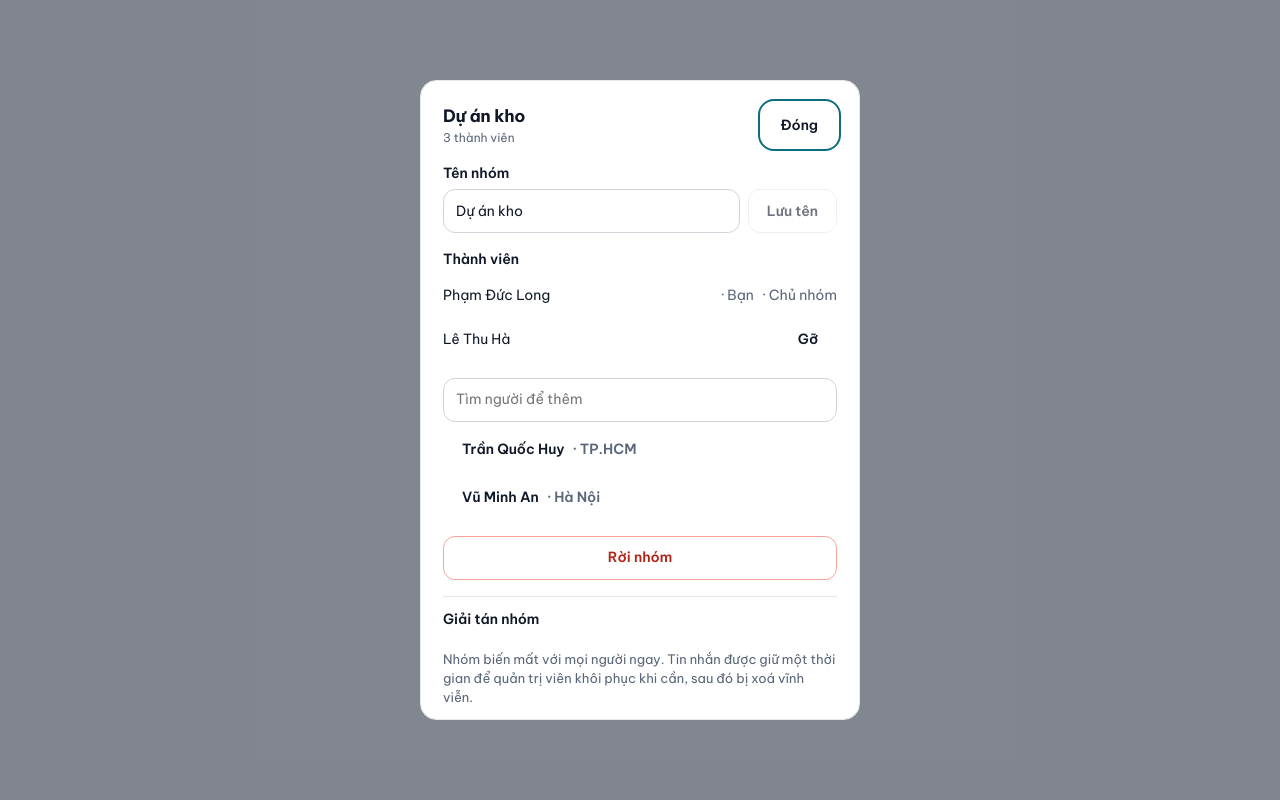
Test: GroupPanel › ignores an earlier directory response that resolves after a later one
Expected: the button "Trần Quốc Huy · TP.HCM" is shown, [443, 428, 837, 472]
Step 1. Type "a" into the field named "Thêm thành viên" → point(640, 400), box [443, 378, 837, 422]
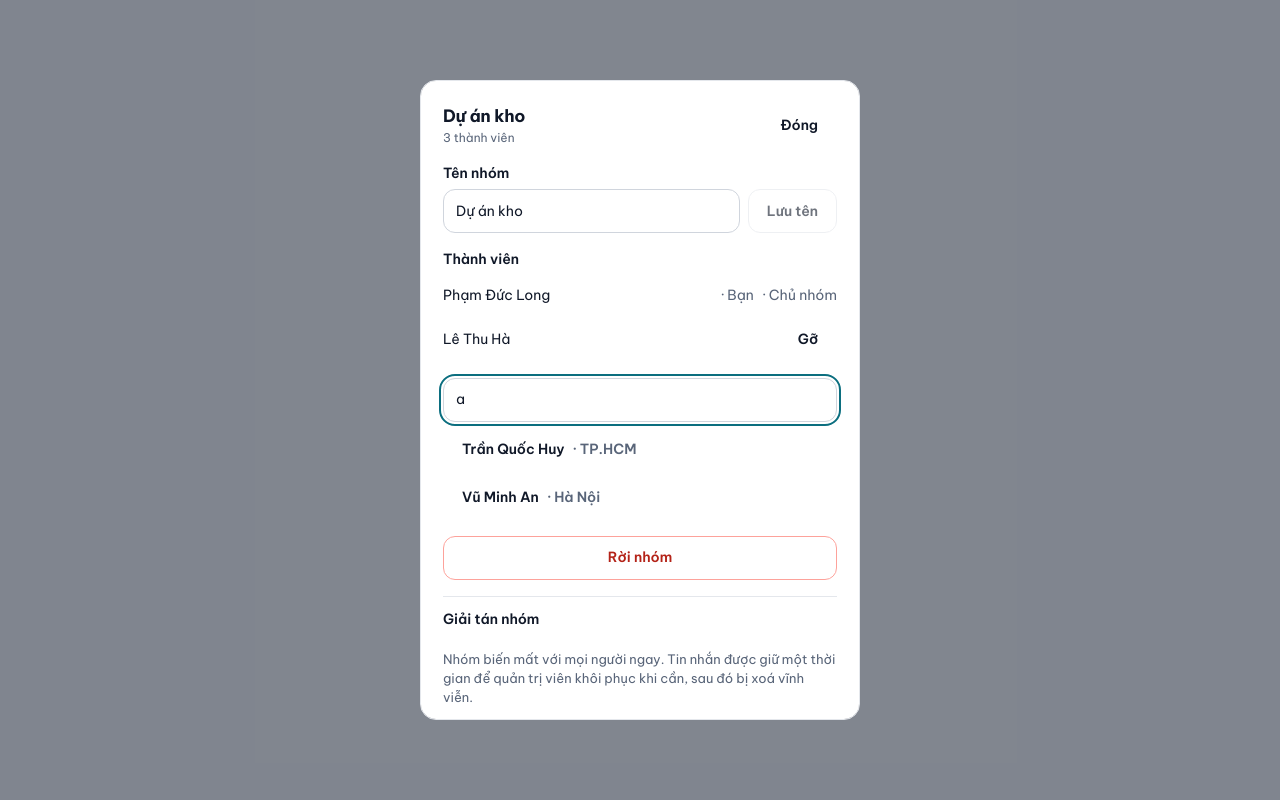
Step 2. Type "n" into the field named "Thêm thành viên" → point(640, 400), box [443, 378, 837, 422]
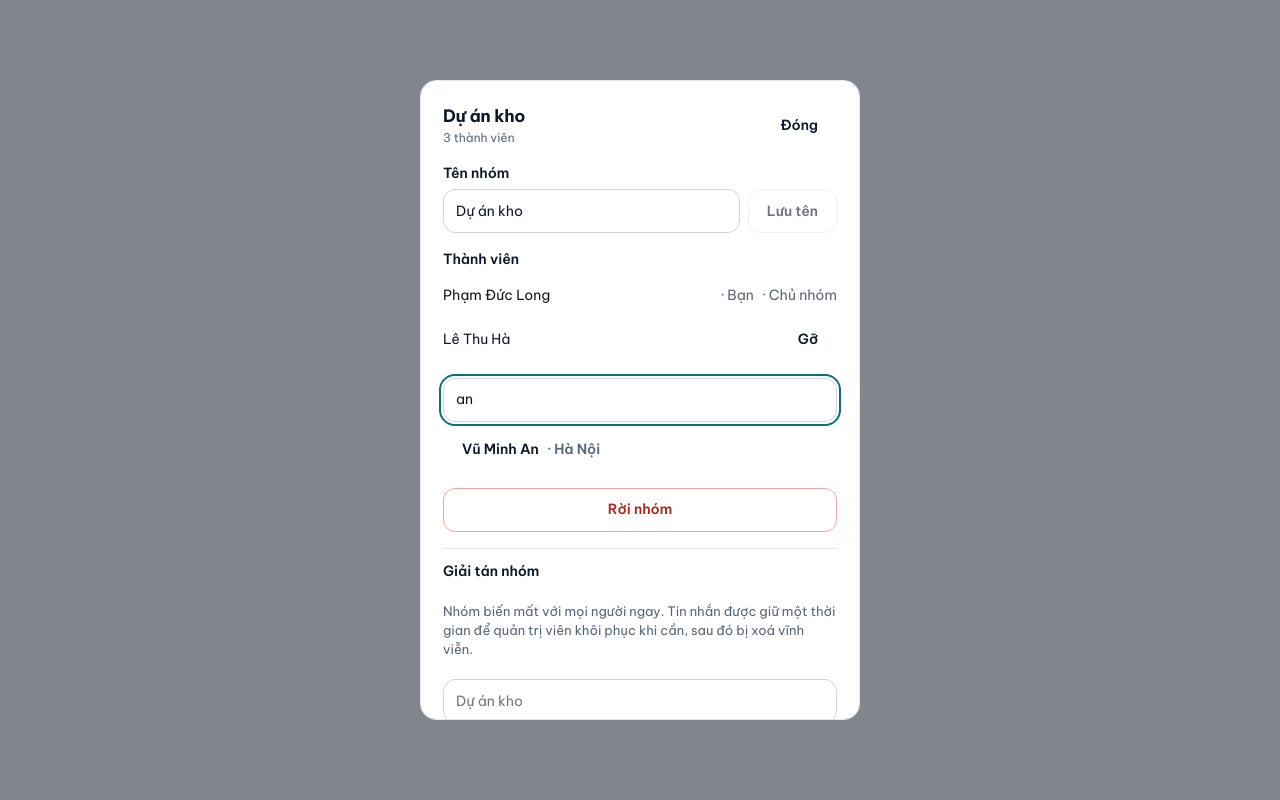
Expected: the button "Vũ Minh An · Hà Nội" is shown, [443, 428, 837, 472]
Expected: the button "Trần Quốc Huy" is gone
